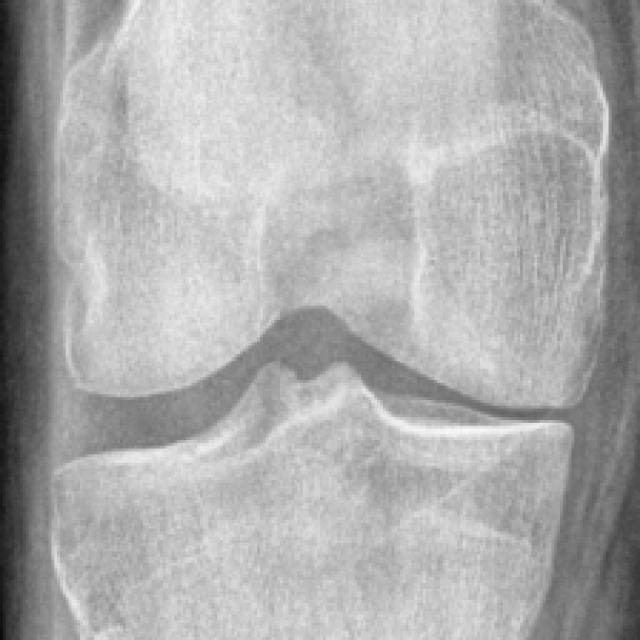femur: (50, 1, 609, 409)
tibia: (51, 366, 573, 640)
